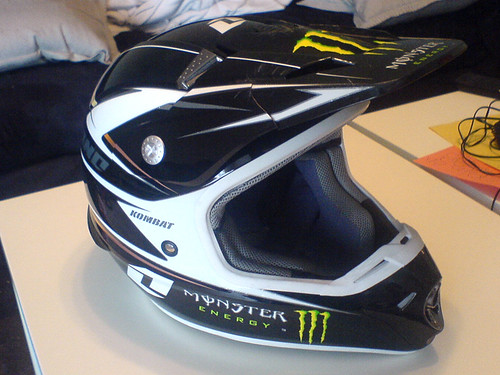helmet: (78, 11, 458, 353)
